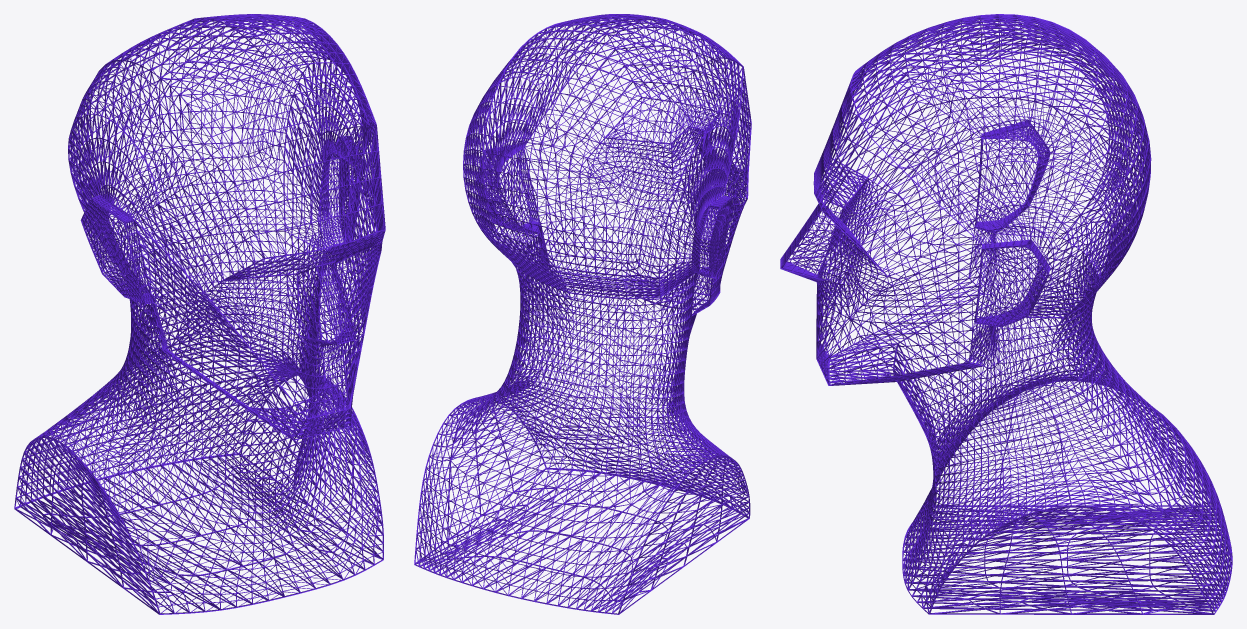
Rendered from head.glb.
The picture shows the model from 3 angles, left to right: view 1: azimuth 30°, elevation 25°; view 2: azimuth 150°, elevation 25°; view 3: azimuth 270°, elevation 25°; orthographic projection. The views are drawn at different scales.
Visible parts, largest first — view 1: Basic_Planes_of_the_Head_Basic_Planes_of_the_Head_0; view 2: Basic_Planes_of_the_Head_Basic_Planes_of_the_Head_0; view 3: Basic_Planes_of_the_Head_Basic_Planes_of_the_Head_0.
Part boxes in pixels (x1,y1,x2,y2): Basic_Planes_of_the_Head_Basic_Planes_of_the_Head_0: [14, 14, 385, 614]; Basic_Planes_of_the_Head_Basic_Planes_of_the_Head_0: [414, 14, 751, 614]; Basic_Planes_of_the_Head_Basic_Planes_of_the_Head_0: [780, 14, 1232, 614].
Bounding box in the file's own units: 3.03 × 5.8 × 4.53.
